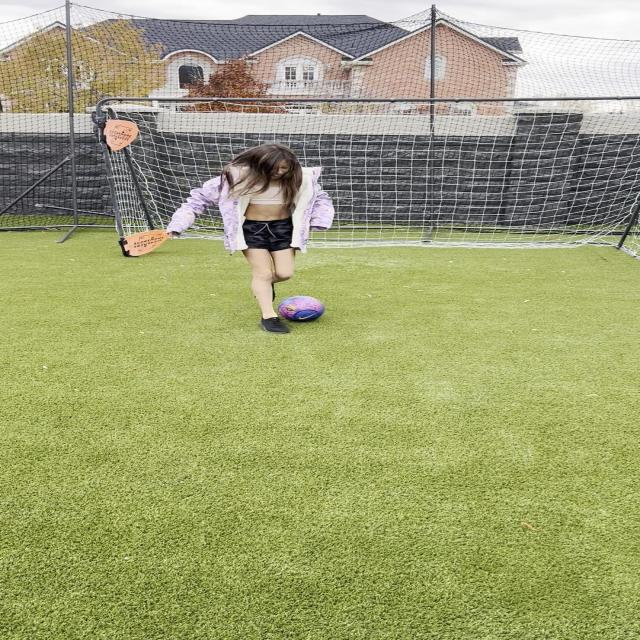Soccer Ball: (278, 296, 324, 323)
